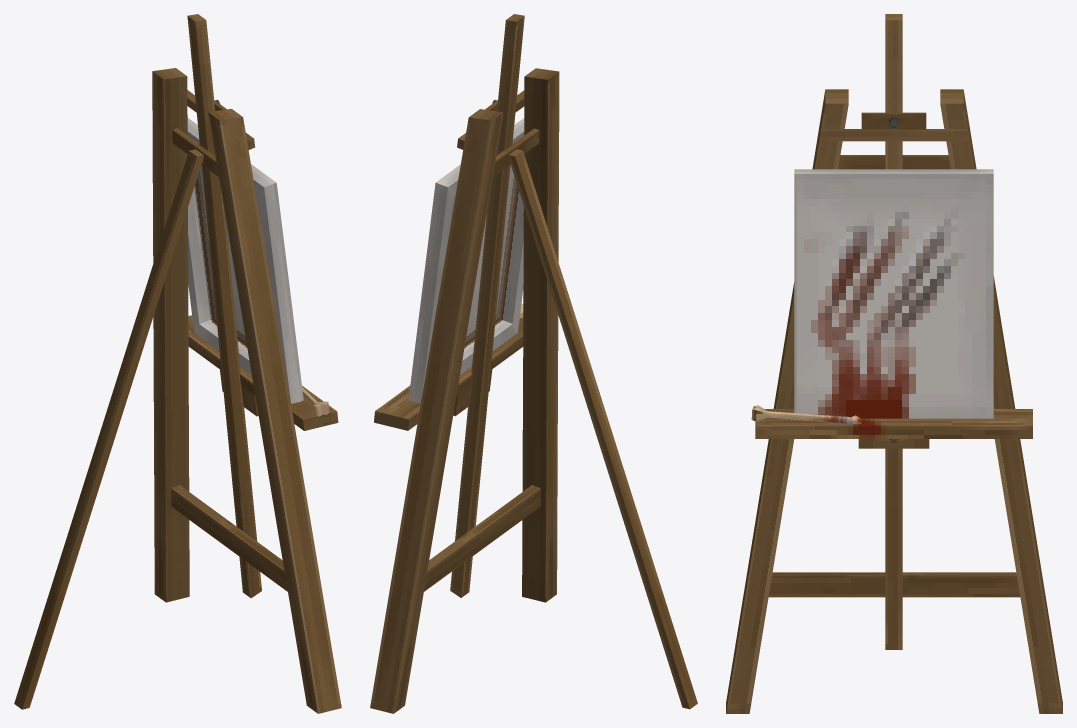
The model's file is easel.glb.
The picture shows the model from 3 angles, left to right: view 1: azimuth 30°, elevation 25°; view 2: azimuth 150°, elevation 25°; view 3: azimuth 270°, elevation 25°; orthographic projection. The views are drawn at different scales.
Visible parts, largest first — view 1: Object_3; view 2: Object_3; view 3: Object_3, Object_4.
Part boxes in pixels (bbox=[...]): Object_3: bbox=[14, 14, 341, 713]; Object_3: bbox=[370, 14, 697, 713]; Object_3: bbox=[726, 14, 1062, 713]; Object_4: bbox=[751, 405, 865, 425].
Bounding box in the file's own units: 0.7672 × 1.87 × 0.8592.
1 material, 1 textured.
